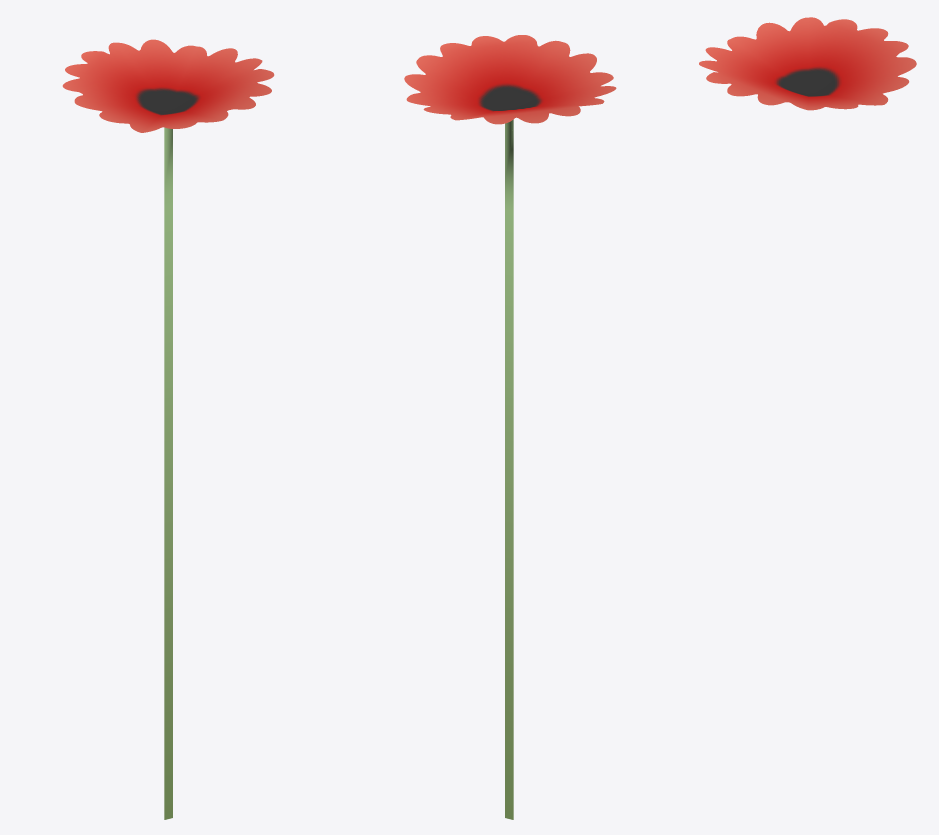
The model's file is Flower_03.fbx.
3 views of the same model, side by side, from view 1: azimuth 30°, elevation 25°; view 2: azimuth 150°, elevation 25°; view 3: azimuth 270°, elevation 25° (orthographic).
Parts seen in each view (by area): view 1: Flower_03; view 2: Flower_03; view 3: Flower_03.
Boxes of the visible parts, bbox=[...] form: Flower_03: bbox=[62, 39, 274, 819]; Flower_03: bbox=[404, 35, 616, 819]; Flower_03: bbox=[699, 17, 916, 110].
Size of the model in its own units: 0.1049 by 0.376 by 0.1049.
